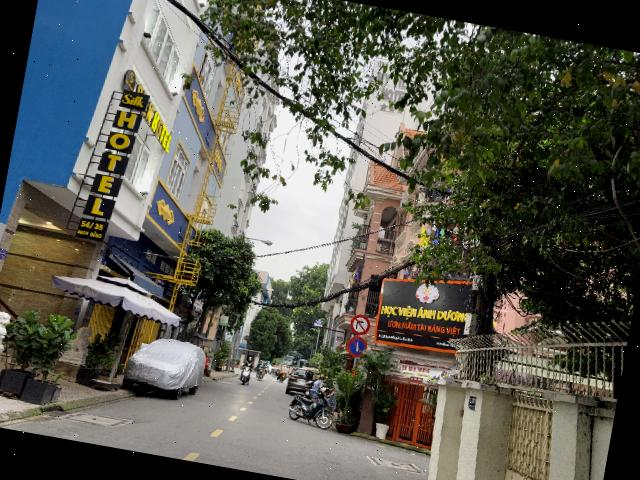cam-do-xe-ngay-le: (344, 334, 370, 359)
cam-re-phai: (348, 312, 372, 336)
